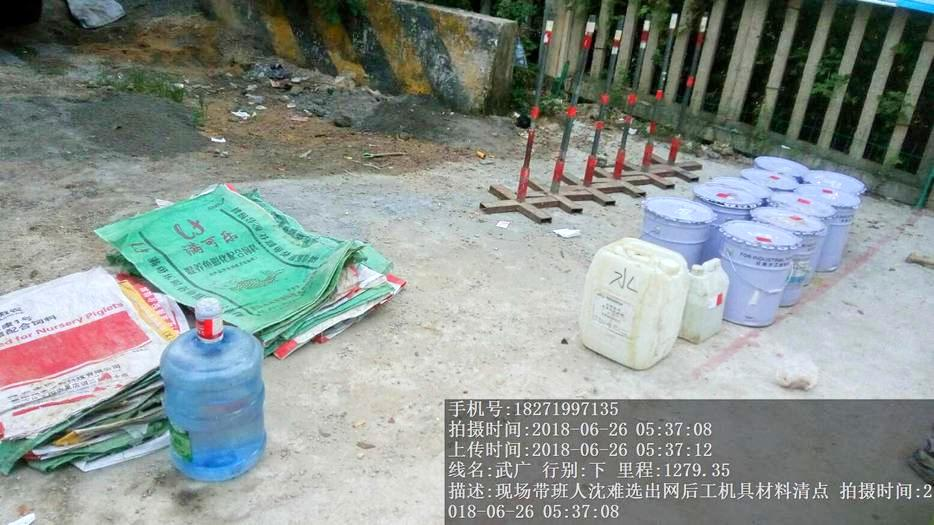BZD: (108, 186, 401, 344), (1, 274, 137, 481)
